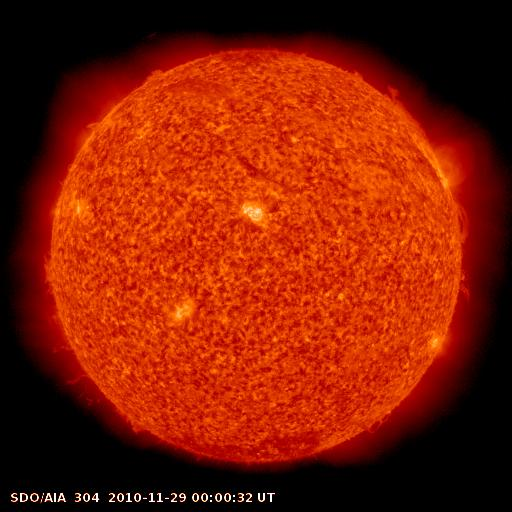prominence: (40, 308, 106, 406), (439, 260, 493, 311), (31, 250, 75, 302), (375, 73, 417, 125), (353, 400, 410, 438), (117, 405, 160, 451), (446, 199, 485, 243), (68, 108, 116, 140), (134, 59, 179, 93)
